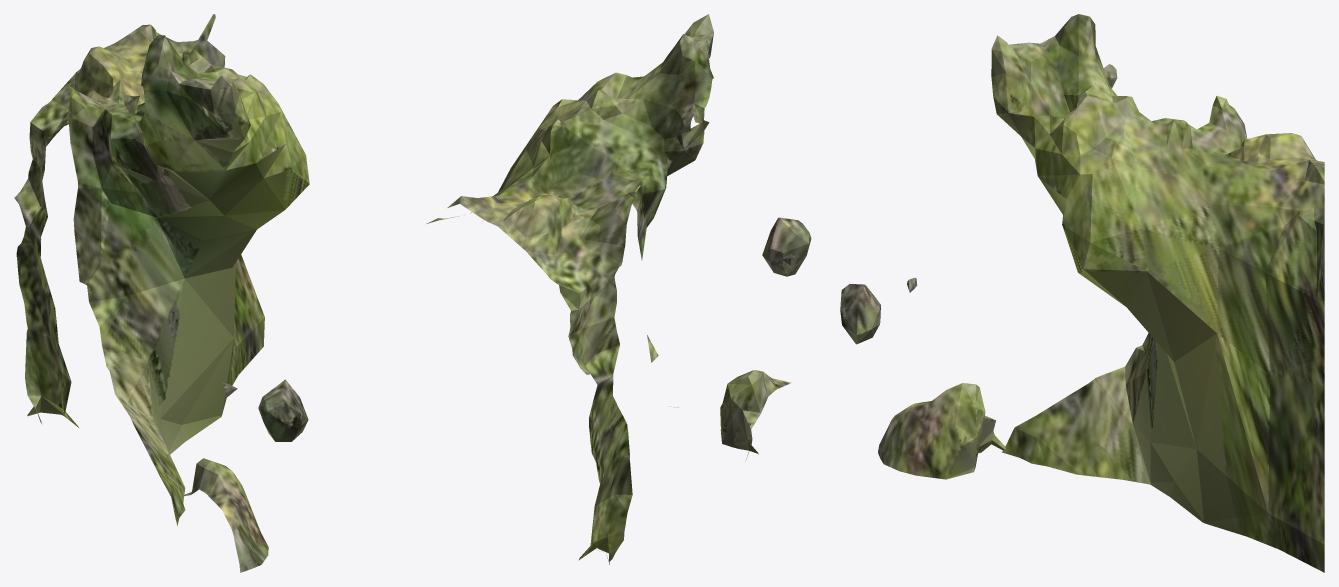
3 views of the same model, side by side, from view 1: azimuth 30°, elevation 25°; view 2: azimuth 150°, elevation 25°; view 3: azimuth 270°, elevation 25° (orthographic).
Bounding box in the file's own units: 1.5 × 2.62 × 2.55.
Materials: 2 (2 with a texture image).
